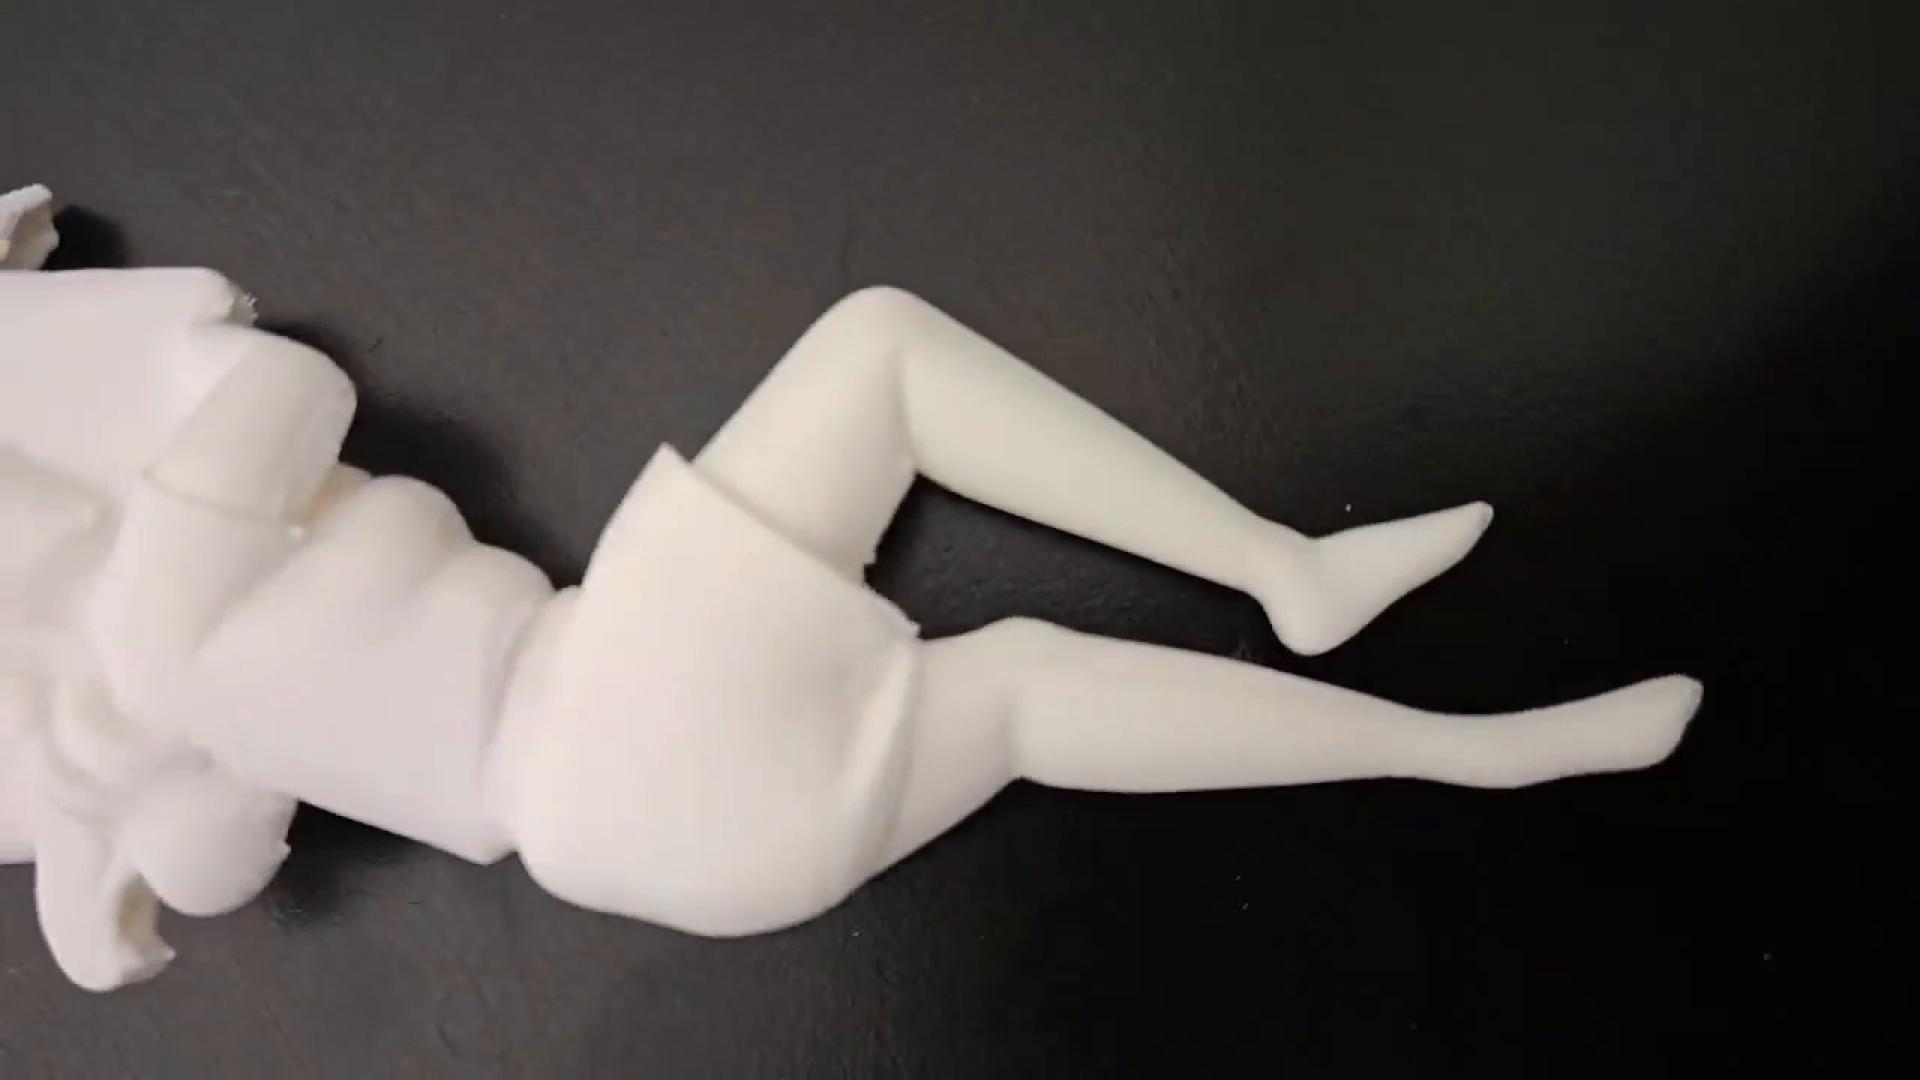Good-style: (0, 158, 1766, 1048)
